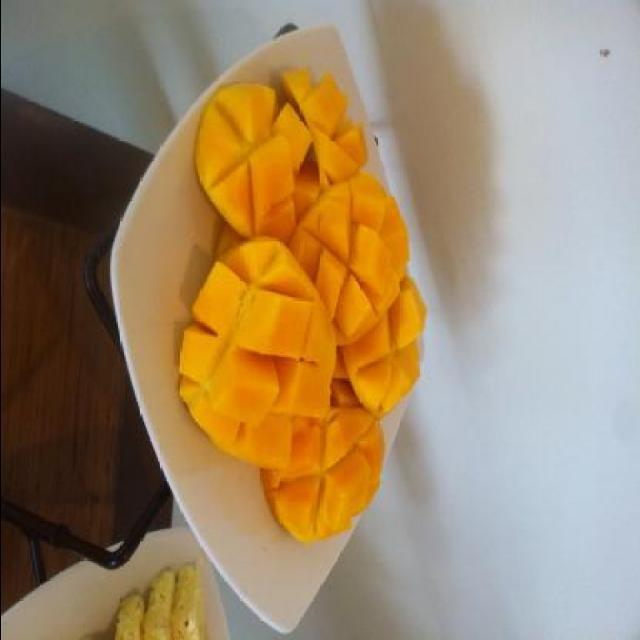Mango: (180, 69, 422, 540), (178, 244, 332, 476)
